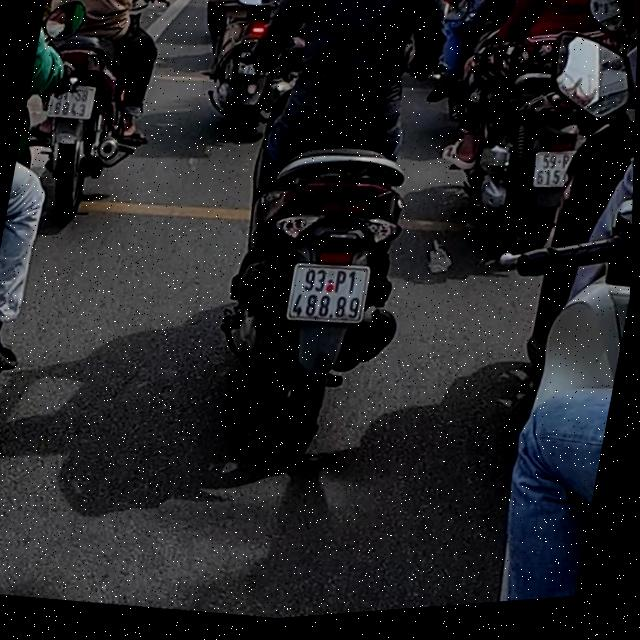motorcycle: (184, 122, 437, 477), (12, 12, 158, 240), (453, 52, 602, 274), (190, 0, 307, 152)
plate: (279, 249, 375, 334), (518, 138, 585, 203), (39, 74, 100, 127)
